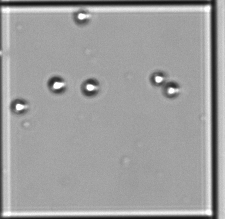Living Cell: (48, 77, 66, 94), (81, 79, 99, 96), (11, 99, 27, 114), (151, 71, 166, 87), (164, 82, 179, 98), (74, 8, 89, 24)
